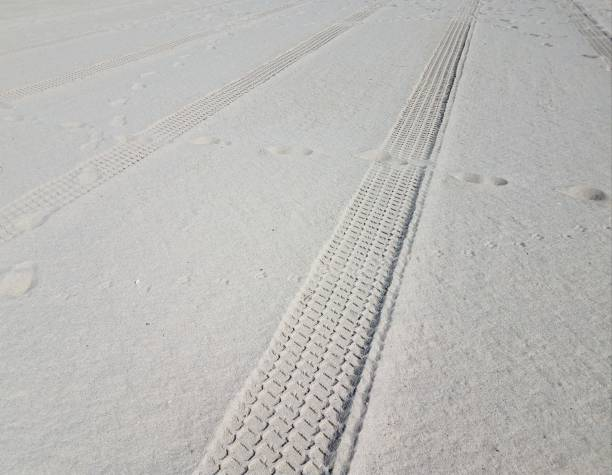vehicle_track: (196, 0, 476, 473), (0, 4, 380, 241), (0, 30, 216, 100), (567, 0, 611, 63)
